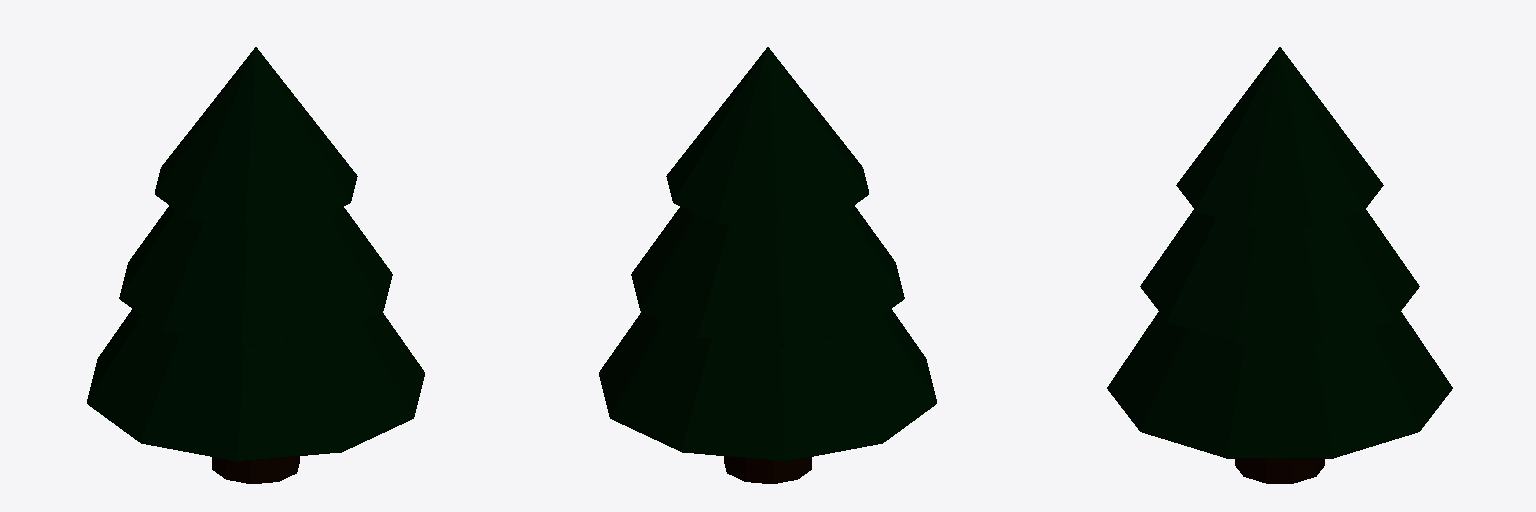
File: pineTreeSmall.obj
The picture shows the model from 3 angles: view 1: azimuth 30°, elevation 25°; view 2: azimuth 150°, elevation 25°; view 3: azimuth 270°, elevation 25°; orthographic projection.
Parts seen in each view (by area): view 1: ForestTreePineShort_Cylinder.008; view 2: ForestTreePineShort_Cylinder.008; view 3: ForestTreePineShort_Cylinder.008.
Boxes of the visible parts, x1,y1,x2,y2 form: ForestTreePineShort_Cylinder.008: [87, 47, 424, 483]; ForestTreePineShort_Cylinder.008: [599, 47, 936, 483]; ForestTreePineShort_Cylinder.008: [1107, 47, 1452, 483].
Size of the model in its own units: 1.66 by 2.32 by 1.74.